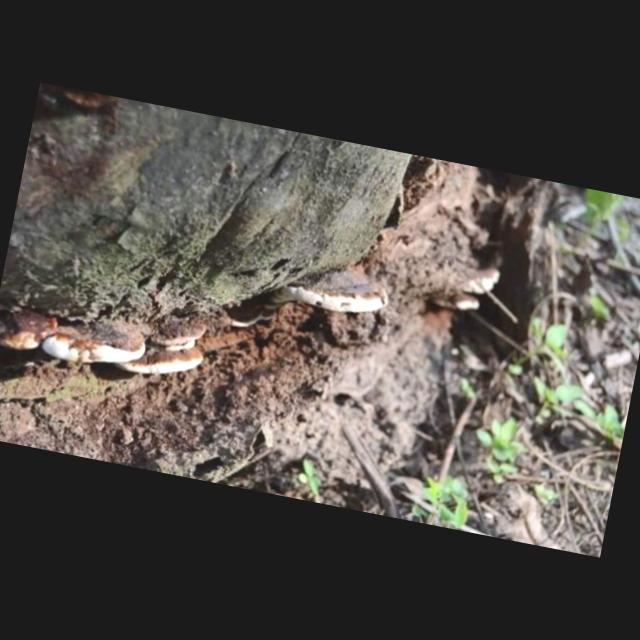ganoderma: (1, 284, 212, 390), (285, 257, 395, 325), (430, 259, 504, 322)
